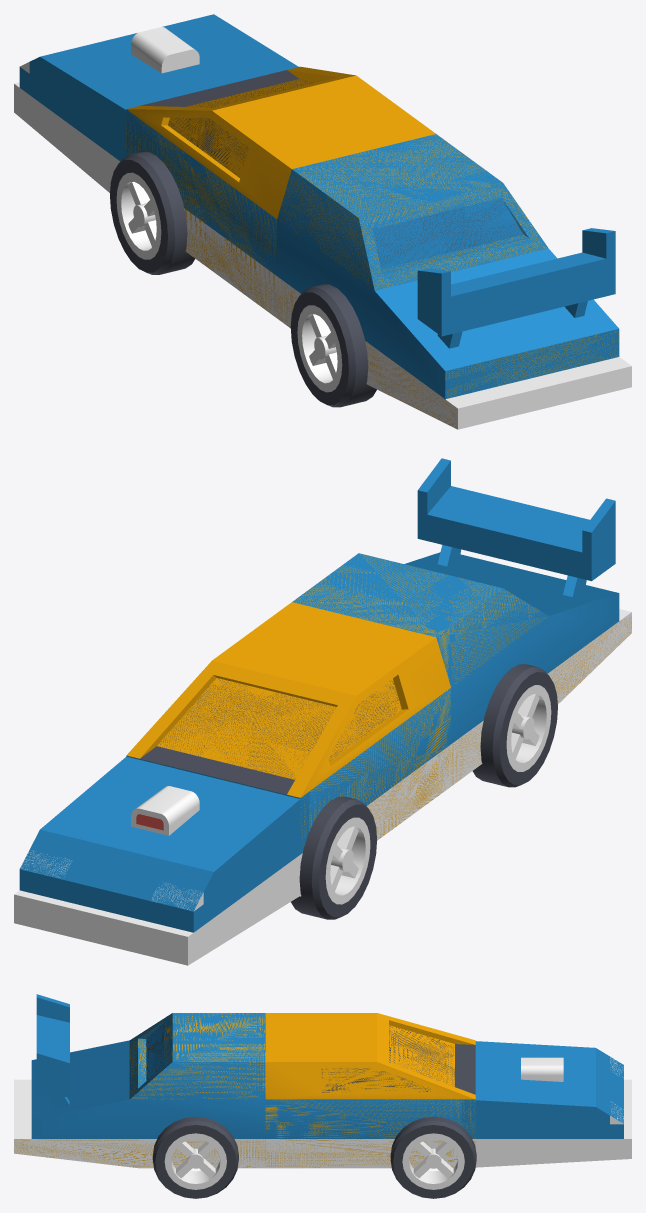
Rendered from LimoDragsterBasicMerge.obj.
The picture shows the model from 3 angles, top to bottom: view 1: azimuth 30°, elevation 25°; view 2: azimuth 150°, elevation 25°; view 3: azimuth 270°, elevation 25°; orthographic projection. The views are drawn at different scales.
Bounding box in the file's own units: 1.2 × 1.12 × 4.42.
